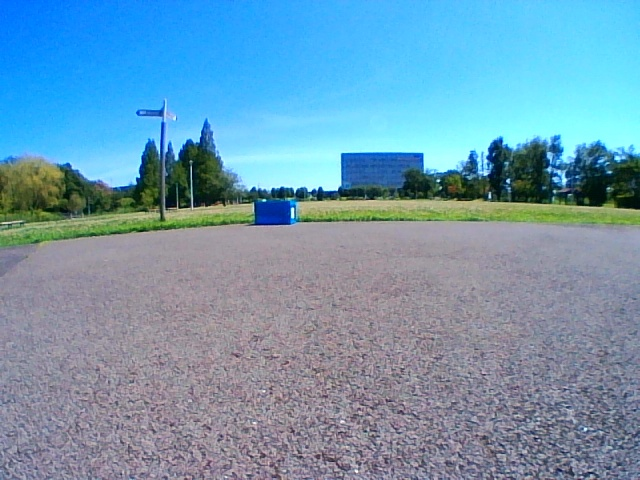blue_box: (255, 199, 294, 224)
tag: (291, 206, 295, 217)
